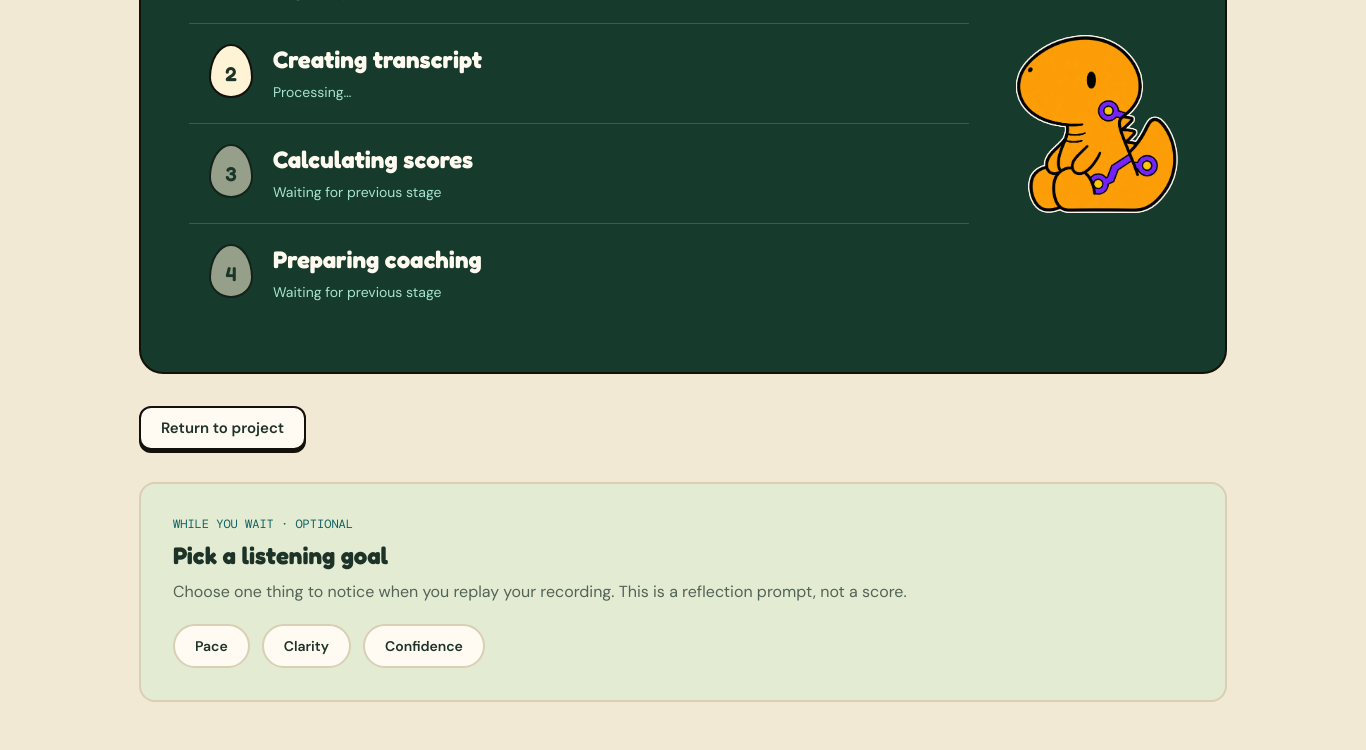
Test: live recording status and results › supports a live listening goal while processing
The width and height of the screenshot is (1366, 750).
(page scrolled)
Click the button "Pace".
click(211, 646)  # box [173,624,250,668]
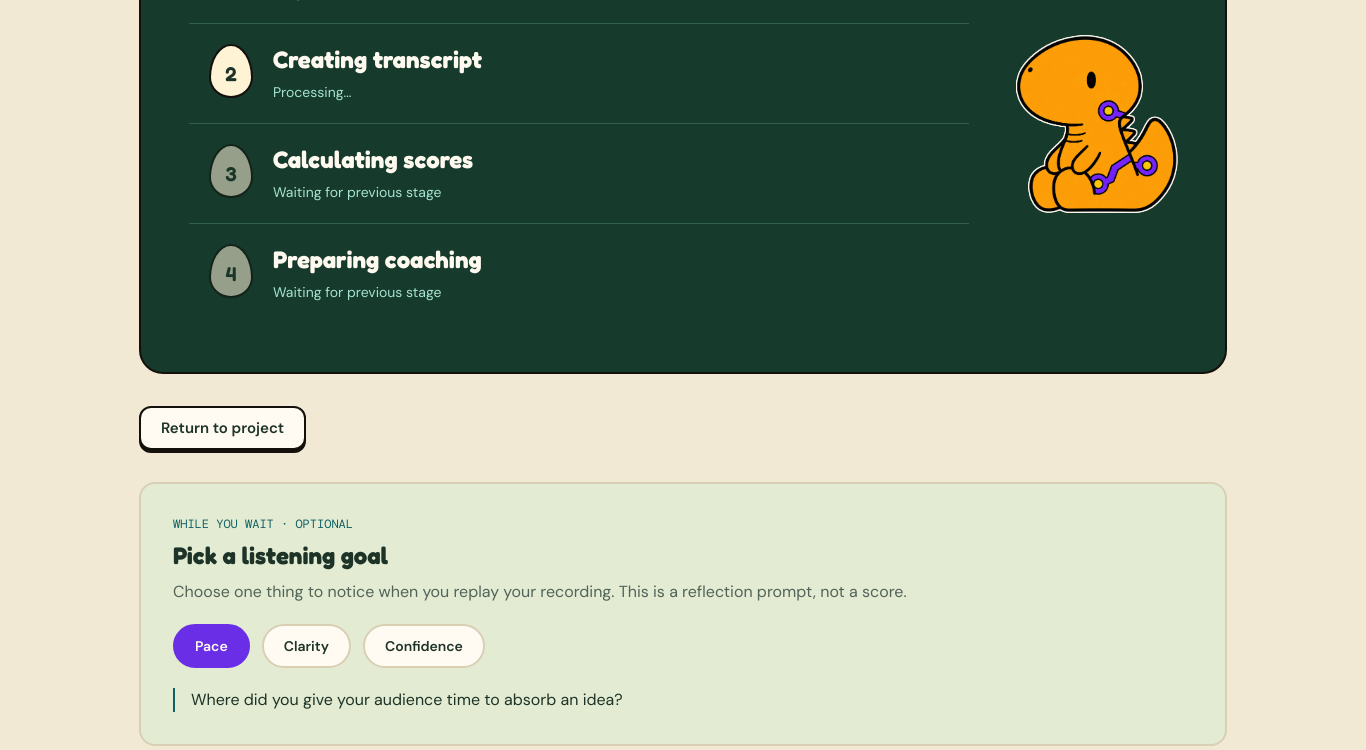
Check: the text "Where did you give your audience time to absorb an idea?" is shown, box [173,688,1193,712]
